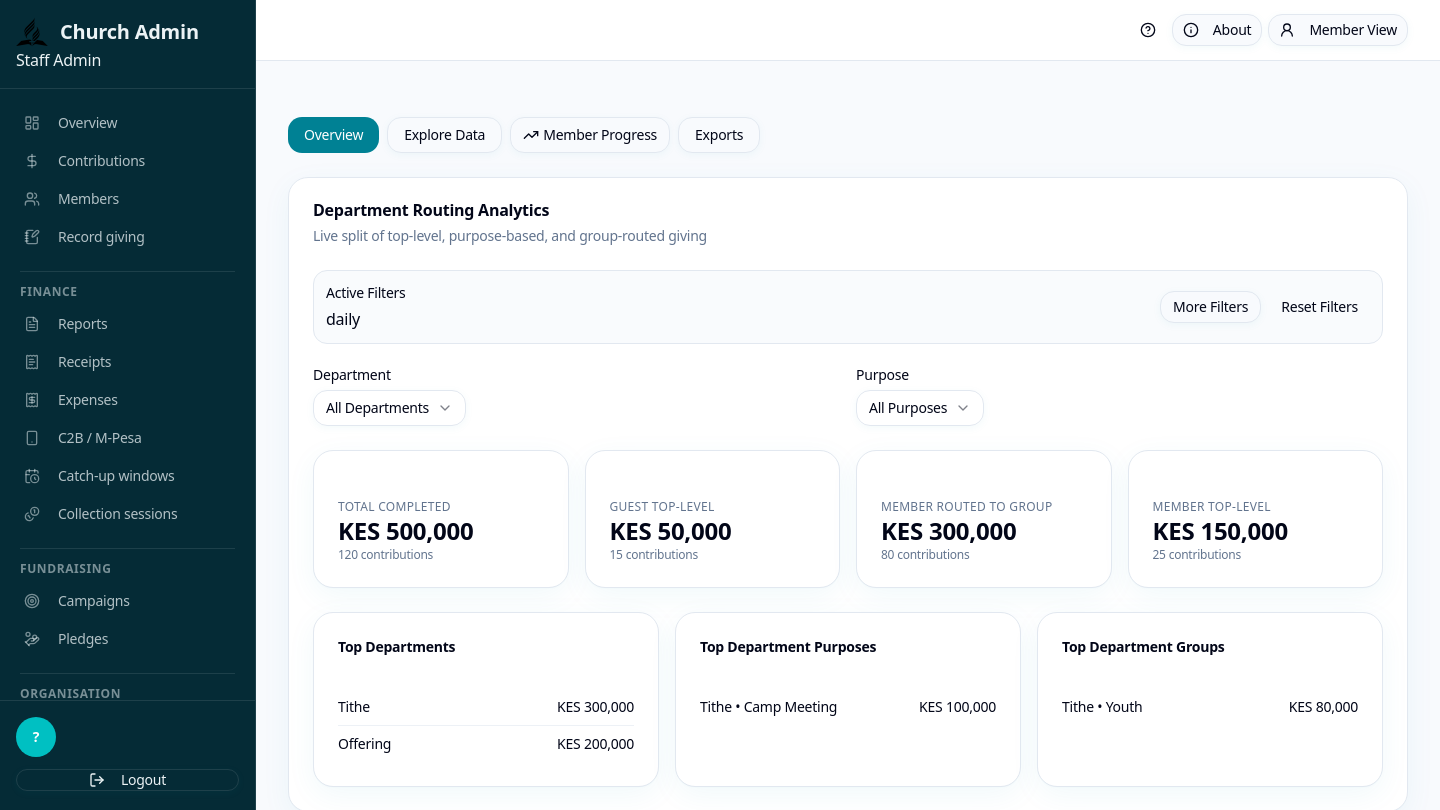
Test case: ReportsPage › filters breakdown rows with search input
The width and height of the screenshot is (1440, 810).
Click the button "Explore Data" at (445, 135), box [387,117,502,153]
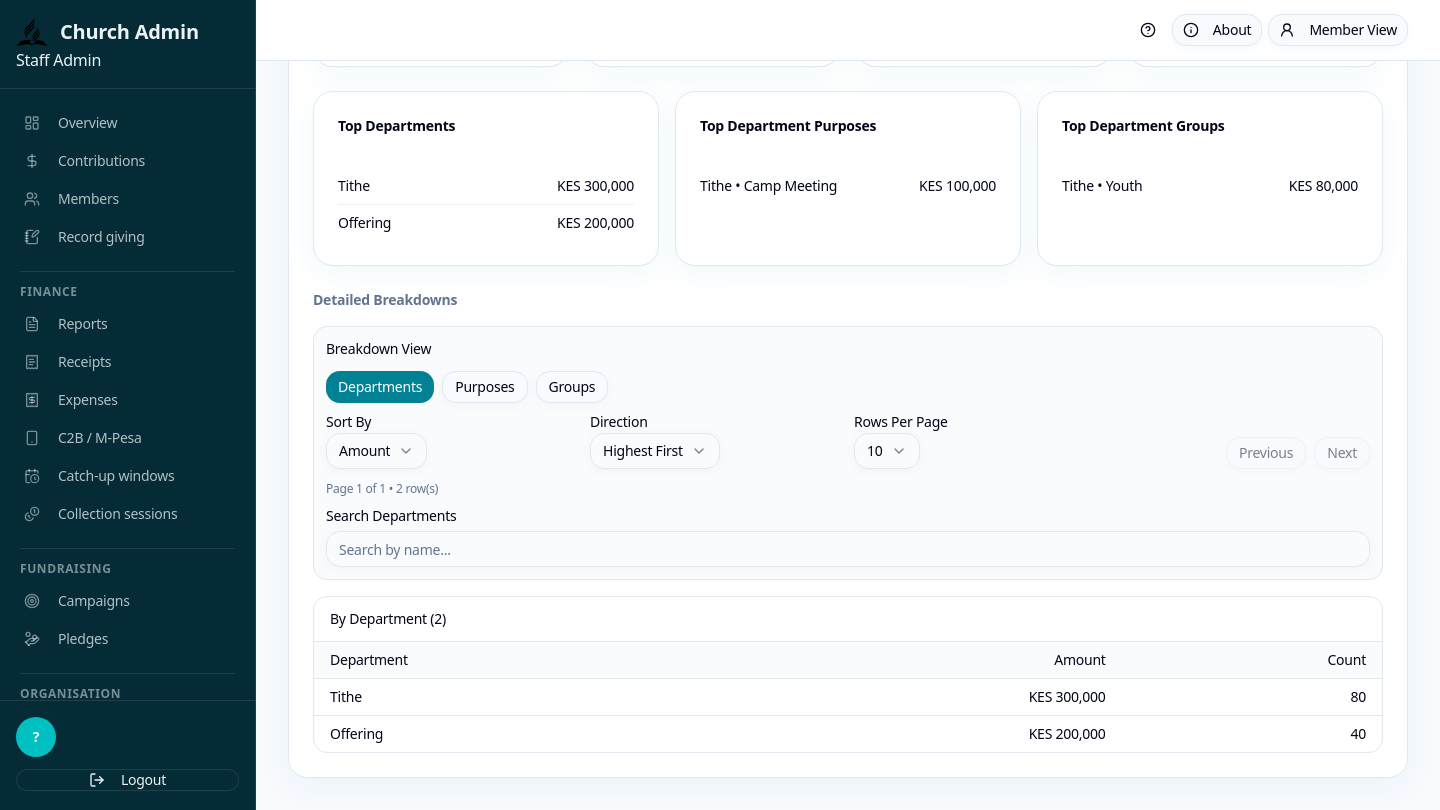
Type "Offer" into the field labelled "Search Departments" at (848, 549), box [326,531,1370,567]
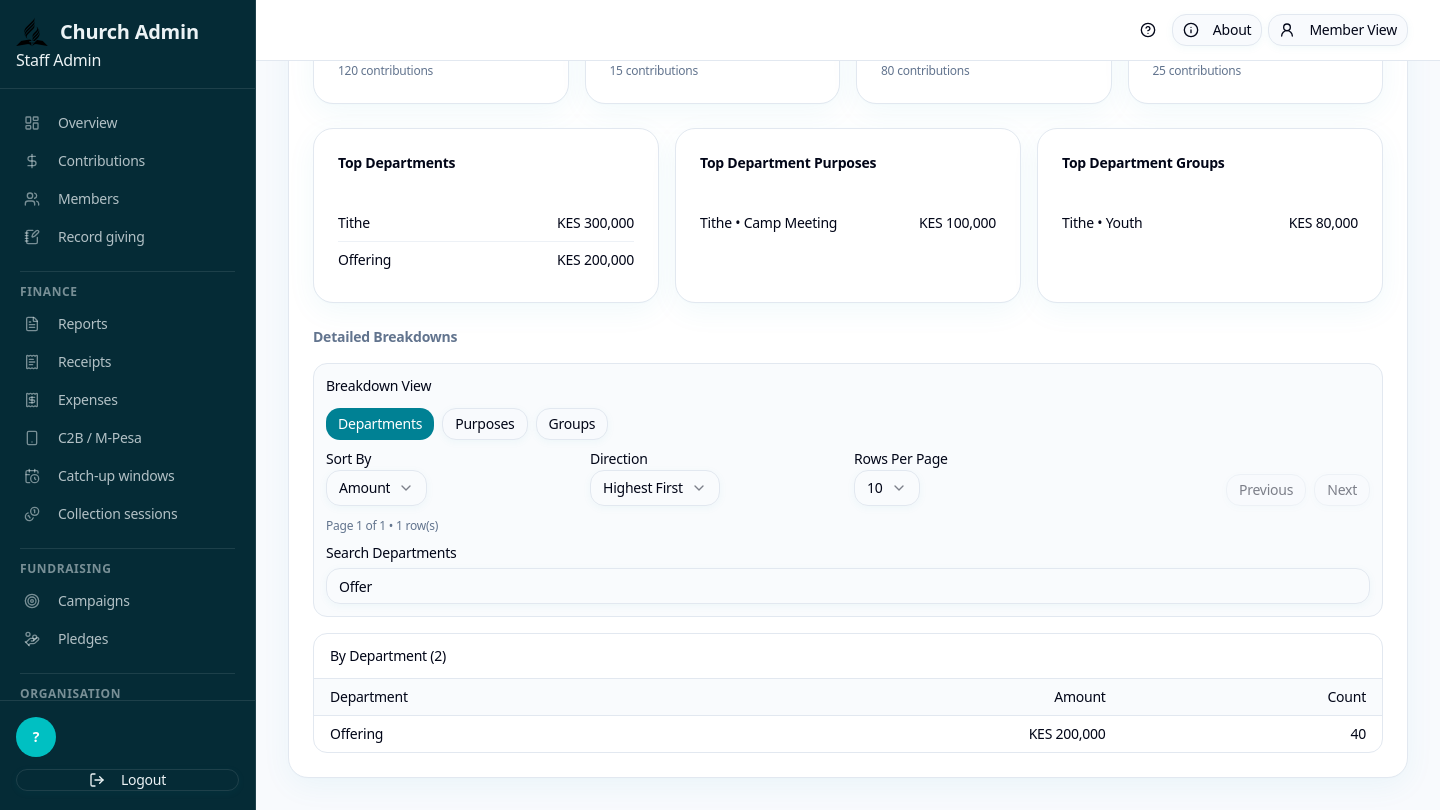
Check: the text "Page 1 of 1 • 1 row(s)" is shown, box [326,517,438,534]
